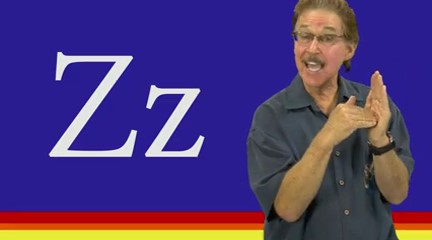Z: (308, 68, 394, 143)
